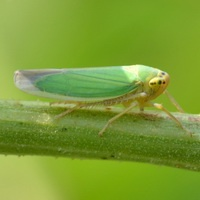insect: (14, 65, 169, 135)
